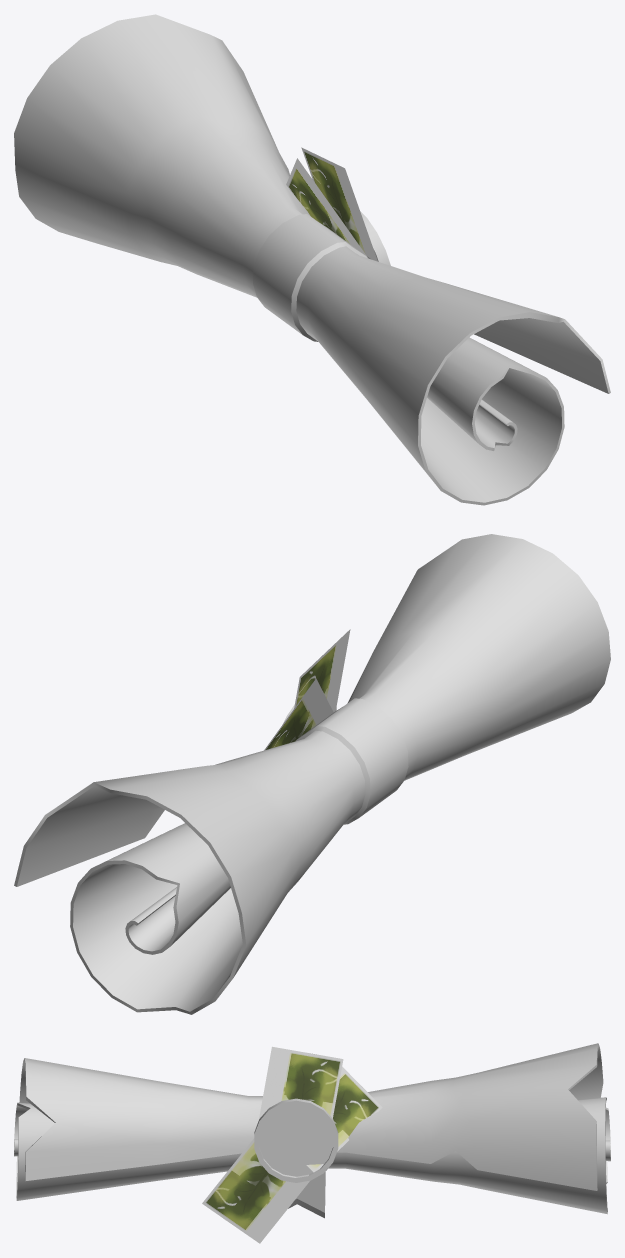
File: Scroll_Model.FBX
The picture shows the model from 3 angles, top to bottom: view 1: azimuth 30°, elevation 25°; view 2: azimuth 150°, elevation 25°; view 3: azimuth 270°, elevation 25°; orthographic projection. The views are drawn at different scales.
Parts seen in each view (by area): view 1: Helix002, Plane001, Plane002; view 2: Helix002, Plane001, Plane002; view 3: Helix002, Plane005, Plane001, Plane002.
Part boxes in pixels (x1,y1,x2,y2): Helix002: (14,14,610,505); Plane001: (301,147,377,261); Plane002: (286,158,368,258); Helix002: (14,534,610,1014); Plane001: (294,629,350,711); Plane002: (264,678,333,750); Helix002: (14,1043,610,1218); Plane005: (202,1138,309,1243); Plane001: (258,1046,343,1120); Plane002: (306,1066,382,1172).
Bounding box in the file's own units: 19.79 × 57.67 × 19.43.
